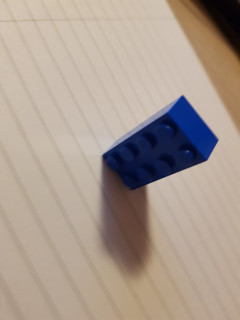2x4 blue: (96, 94, 220, 191)
